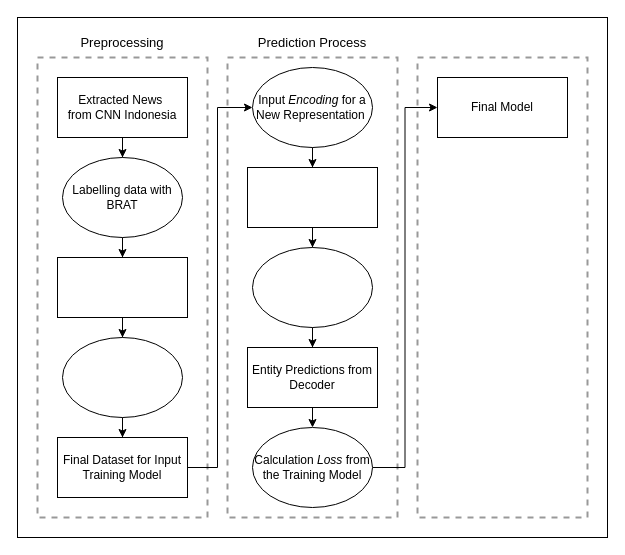
Image size: 625x555. Some labels were removed from this diagram. Each missing label, with the centre of its shape:
Annotated Documents from BRAT: (x=122, y=287)
Convert Data Structure: (x=122, y=377)
Decoding Entity Query: (x=312, y=287)
Entity Query (Word Representation): (x=312, y=197)
